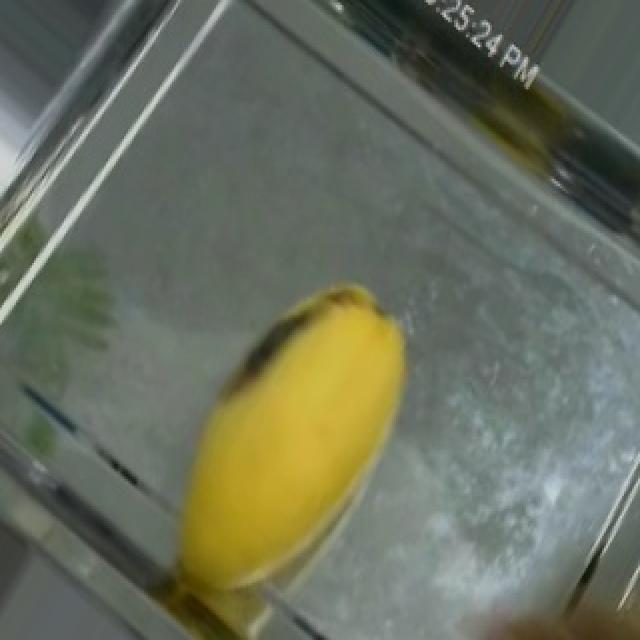fruit: (130, 235, 480, 622)
